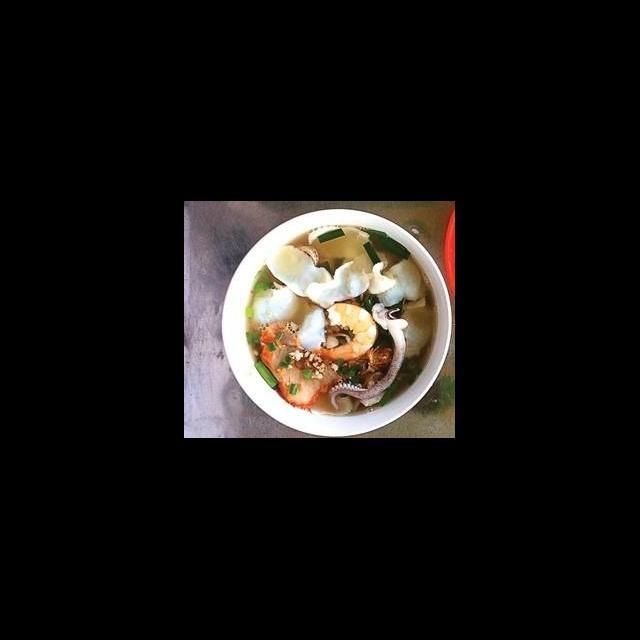muc: (328, 298, 412, 414)
thit heo: (255, 318, 344, 397), (254, 340, 326, 410)
tom: (304, 299, 382, 366)
